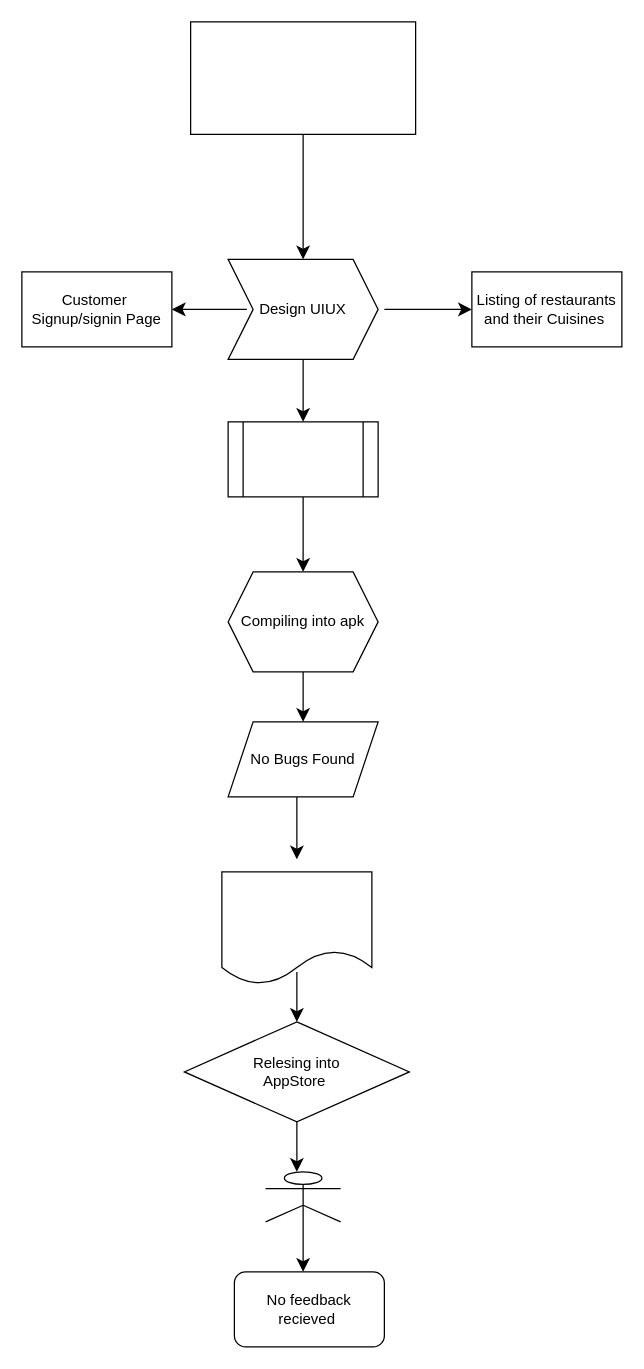
The diagram is 644 pixels wide and 1369 high, and some of its shapes have lost their labels. The shapes that lost their labels are listed below. From the top down, each one's box as (x1, y1, x2, y2) in pixels, then its label:
(189, 21, 416, 134): ZK Eats
(227, 421, 378, 497): Checkout Page and RTS
(221, 871, 372, 984): Writing permissions For Deployment
(264, 1171, 341, 1222): Customer Using application
